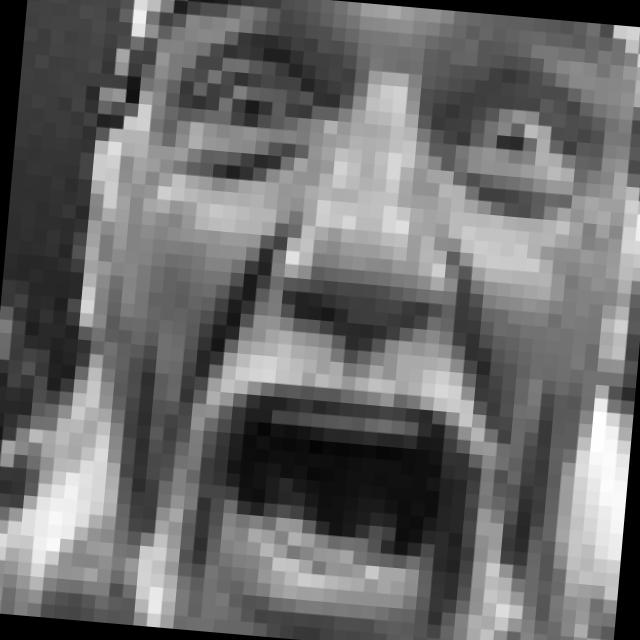angry: (129, 19, 608, 640)
